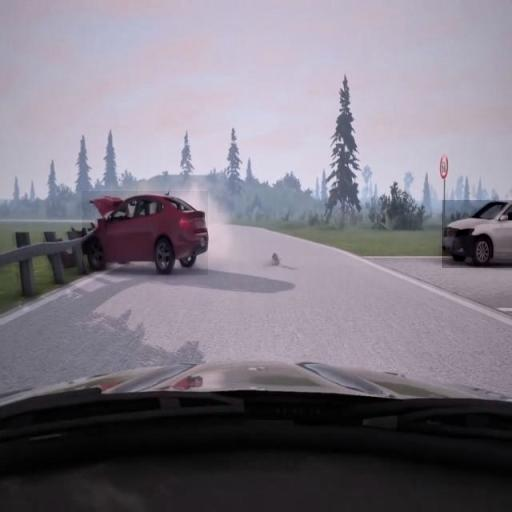小汽车: (442, 200, 512, 268)
小汽车撞物: (82, 191, 208, 275)
